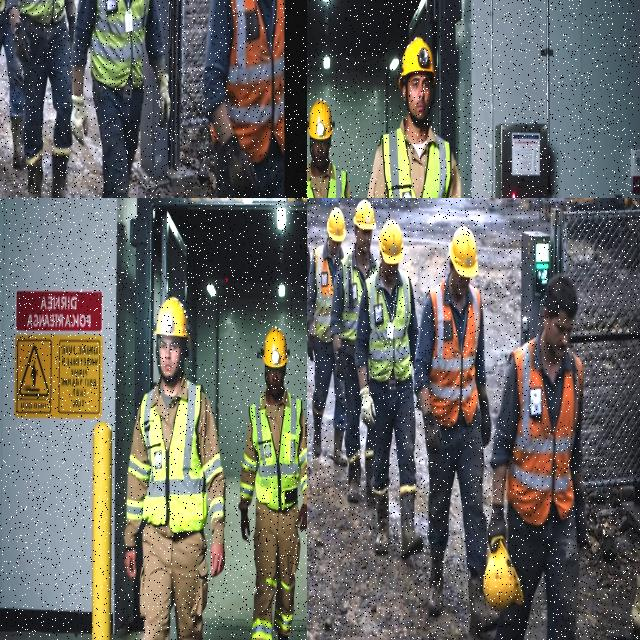Vest: (506, 339, 582, 525), (139, 382, 206, 533), (225, 0, 283, 163), (428, 280, 480, 427), (249, 393, 300, 511), (90, 0, 149, 89), (365, 269, 411, 382), (381, 128, 415, 197), (340, 252, 362, 342), (314, 245, 333, 342), (18, 0, 64, 25), (326, 165, 345, 197), (0, 0, 4, 12)
Worker: (488, 275, 586, 639), (414, 226, 498, 633), (124, 298, 224, 639), (355, 220, 422, 558), (239, 328, 306, 639), (71, 0, 169, 197), (203, 0, 283, 197), (367, 38, 460, 197), (330, 199, 376, 502), (5, 0, 74, 197), (307, 207, 346, 466), (307, 100, 350, 197), (0, 0, 24, 168), (307, 245, 309, 284)
helmet: (483, 537, 522, 610), (398, 37, 435, 88), (154, 297, 189, 342), (449, 226, 477, 278), (257, 327, 288, 368), (307, 99, 333, 140), (379, 220, 402, 264), (353, 199, 375, 230), (326, 207, 344, 242)
